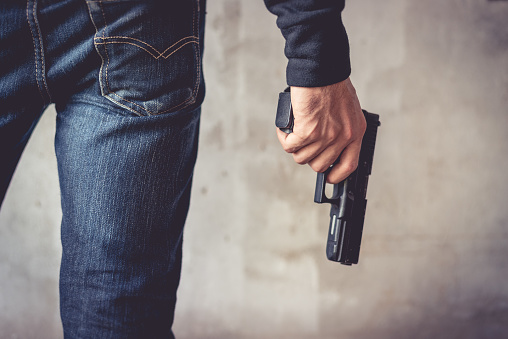gun: (272, 84, 383, 269)
